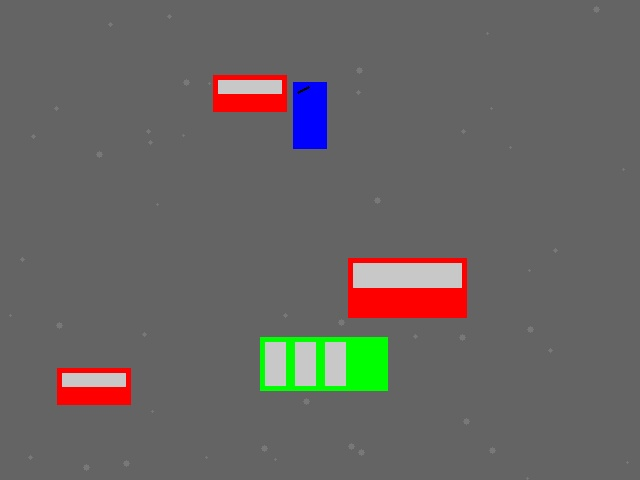bus: (260, 337, 387, 390)
car: (348, 258, 466, 317), (57, 368, 130, 404), (213, 75, 286, 111)
motorcycle: (293, 82, 326, 148)
